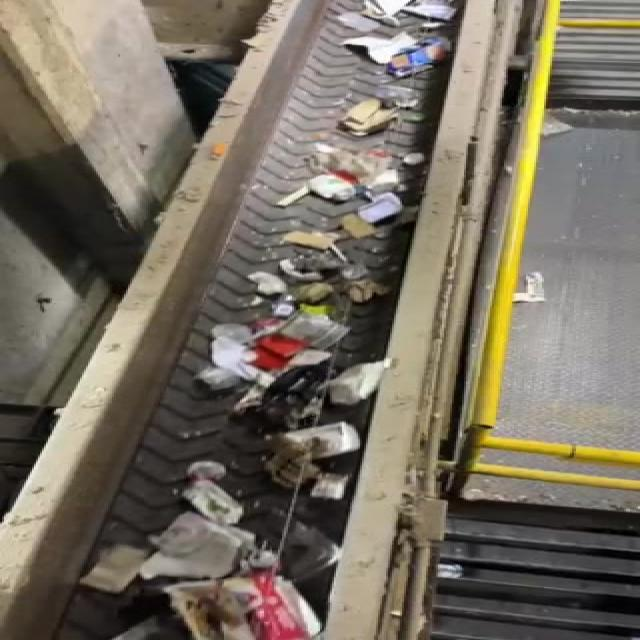ps: (160, 571, 344, 640), (275, 421, 385, 464)
